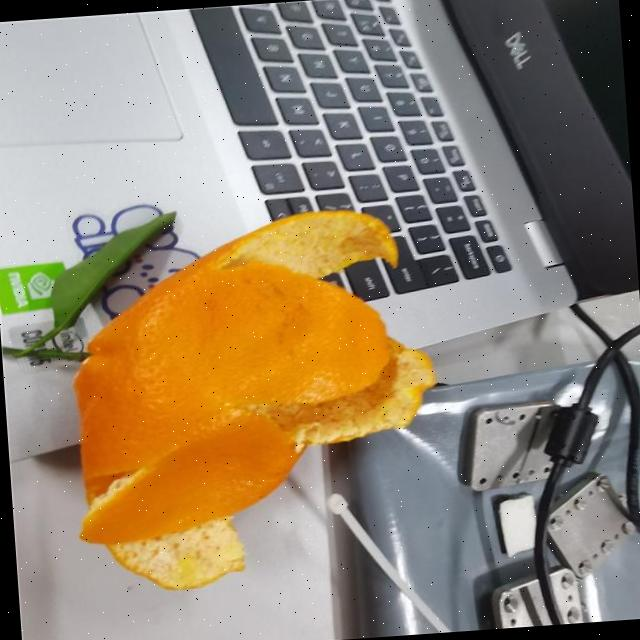orange-peel: (56, 202, 446, 552)
